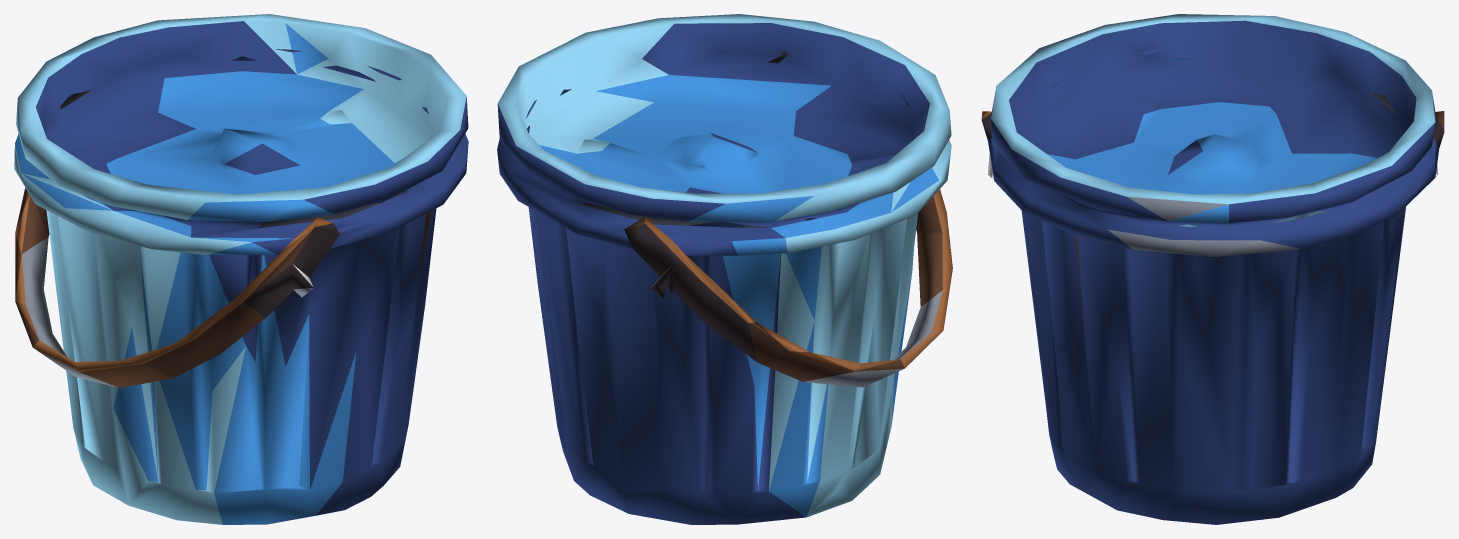
The model's file is SM_bucket_blue.glb.
The picture shows the model from 3 angles, left to right: view 1: azimuth 30°, elevation 25°; view 2: azimuth 150°, elevation 25°; view 3: azimuth 270°, elevation 25°; orthographic projection.
Parts seen in each view (by area): view 1: SM_bucket_blue; view 2: SM_bucket_blue; view 3: SM_bucket_blue.
Part boxes in pixels (x1=…): SM_bucket_blue: x1=14, y1=14, x2=468, y2=524; SM_bucket_blue: x1=497, y1=14, x2=952, y2=524; SM_bucket_blue: x1=981, y1=14, x2=1444, y2=524.
Bounding box in the file's own units: 0.5334 × 0.45 × 0.5394.
Materials: 1 (1 with a texture image).
